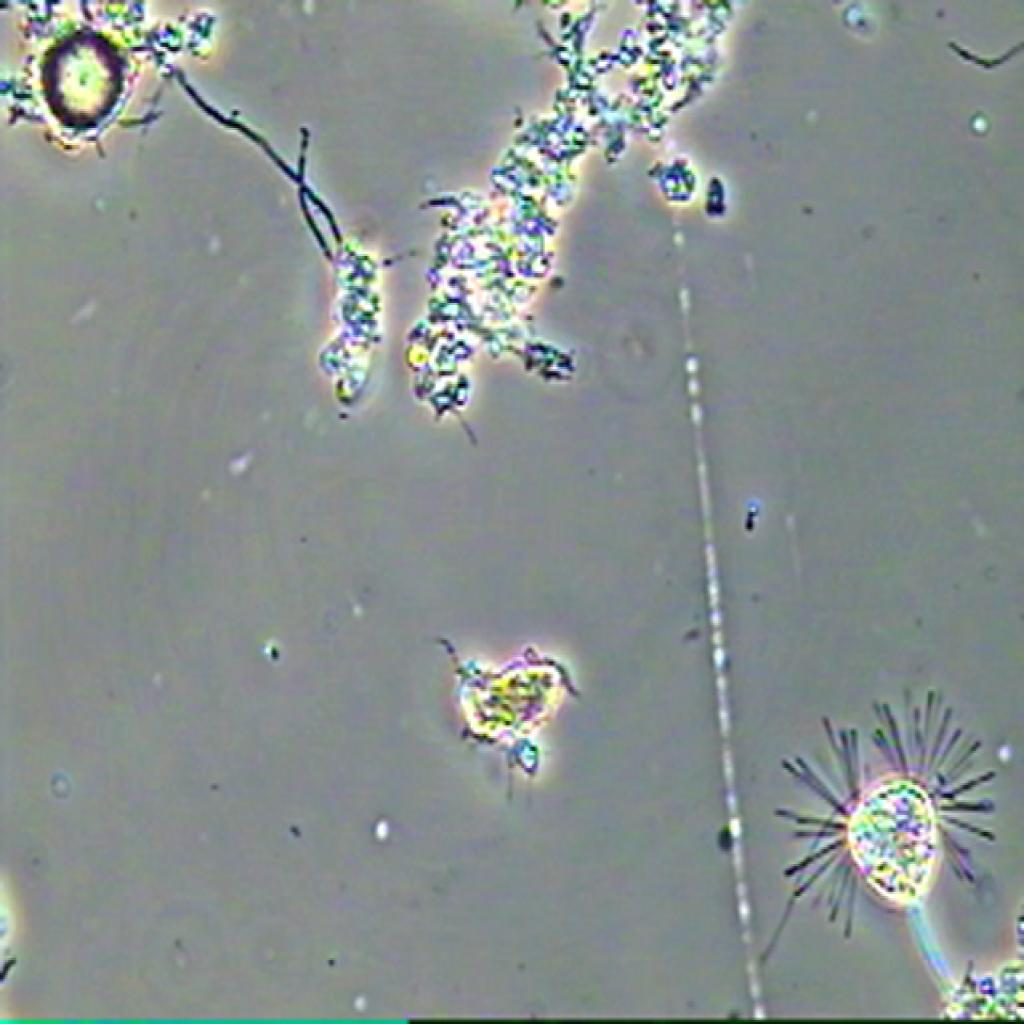Suctorida: (770, 678, 1014, 988)
